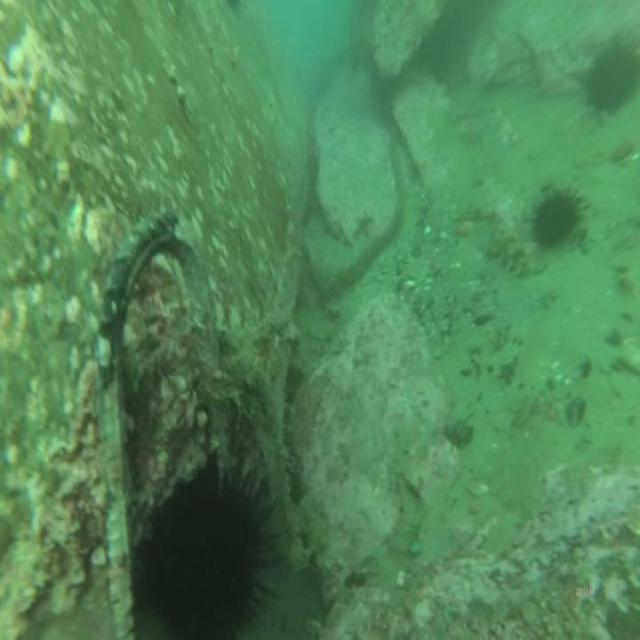echinus: (128, 425, 290, 640), (576, 33, 640, 123), (524, 178, 592, 254)
holothurian: (491, 212, 528, 281)
